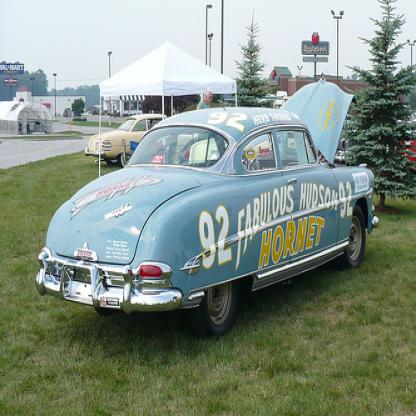car: (31, 76, 383, 346), (89, 109, 197, 164)
person: (192, 86, 214, 112)
